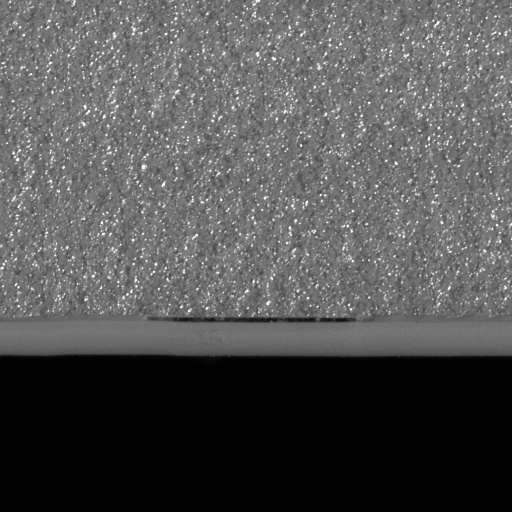jiaofeng: (150, 311, 359, 340)
